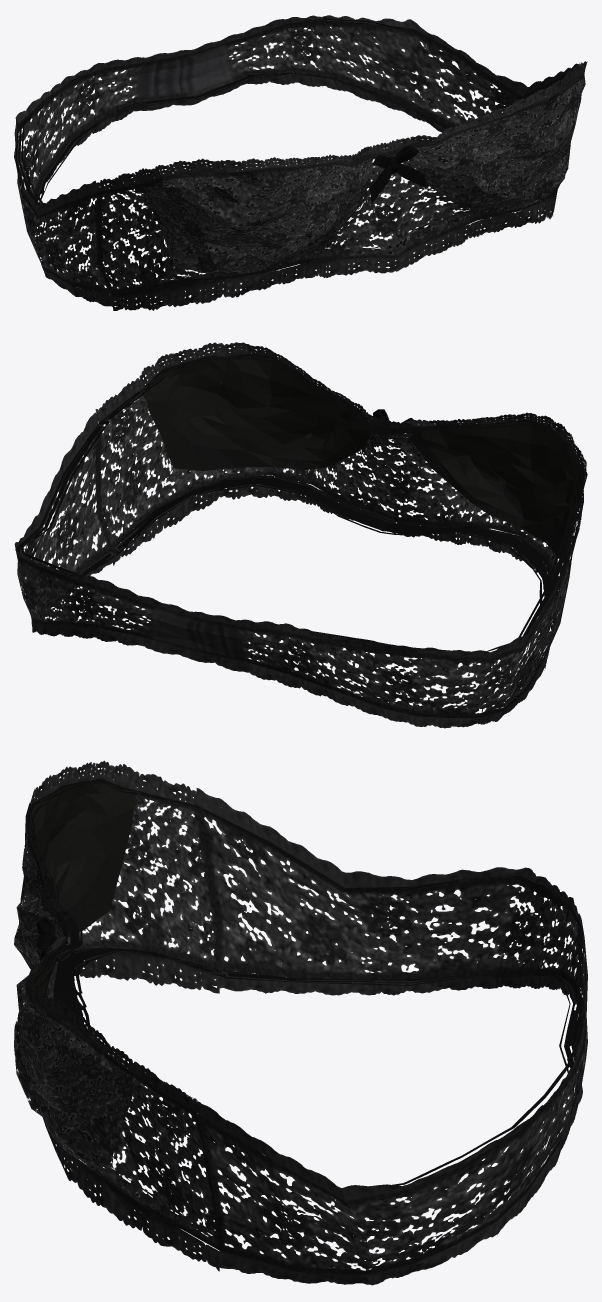
The model's file is mhw_punkduck_bandeau_bra.glb.
3 renders of one model, top to bottom at view 1: azimuth 30°, elevation 25°; view 2: azimuth 150°, elevation 25°; view 3: azimuth 270°, elevation 25°, orthographic. The views are drawn at different scales.
Parts seen in each view (by area): view 1: mhw_punkduck_bandeau_bra; view 2: mhw_punkduck_bandeau_bra; view 3: mhw_punkduck_bandeau_bra.
Boxes of the visible parts, x1,y1,x2,y2 form: mhw_punkduck_bandeau_bra: (14, 15, 587, 310); mhw_punkduck_bandeau_bra: (14, 342, 587, 728); mhw_punkduck_bandeau_bra: (14, 760, 587, 1285).
Size of the model in its own units: 0.3344 by 0.1267 by 0.2534.
Materials: 1 (1 with a texture image).
